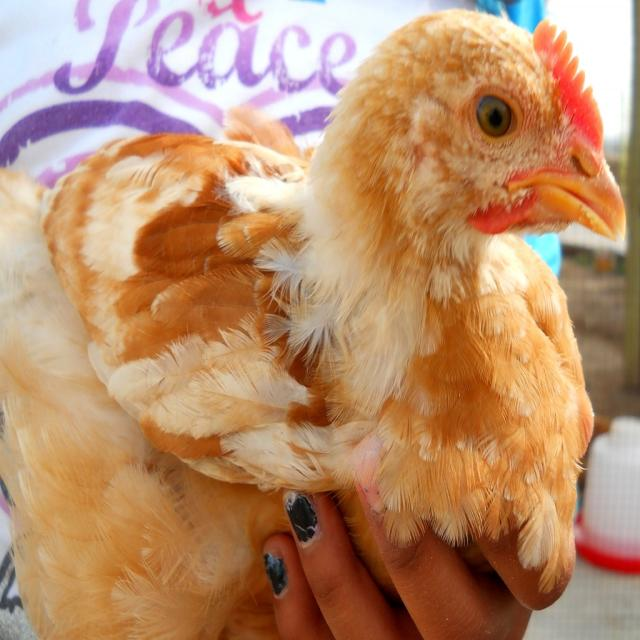Chicken: (39, 10, 620, 616)
